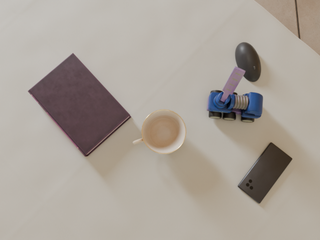book: (28, 53, 131, 156)
cup: (133, 109, 186, 154)
mouse: (235, 42, 261, 82)
phone: (238, 143, 292, 203)
toy_car: (207, 67, 263, 122)
